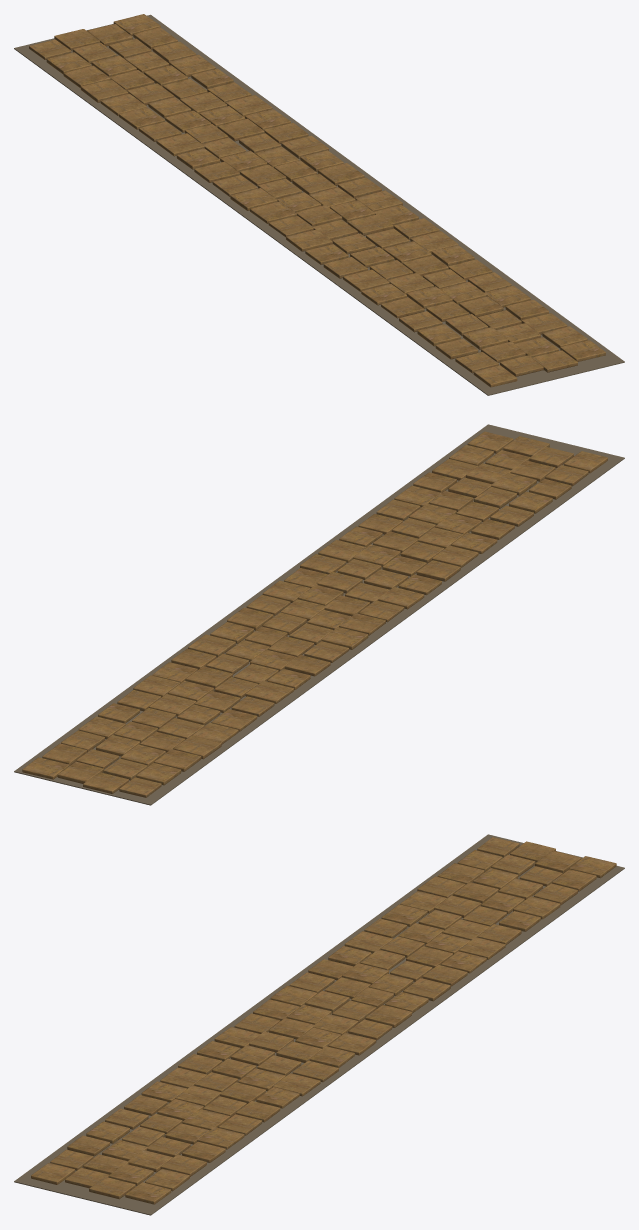
The model's file is stone_approach.glb.
The picture shows the model from 3 angles, top to bottom: view 1: azimuth 30°, elevation 25°; view 2: azimuth 150°, elevation 25°; view 3: azimuth 330°, elevation 25°; orthographic projection.
Parts seen in each view (by area): view 1: LimestoneSurface, PackedEarthSurface; view 2: LimestoneSurface, PackedEarthSurface; view 3: LimestoneSurface, PackedEarthSurface.
Boxes of the visible parts, bbox=[...] form: LimestoneSurface: bbox=[29, 14, 605, 387]; PackedEarthSurface: bbox=[14, 14, 624, 395]; LimestoneSurface: bbox=[22, 431, 607, 797]; PackedEarthSurface: bbox=[14, 424, 624, 805]; LimestoneSurface: bbox=[31, 837, 616, 1204]; PackedEarthSurface: bbox=[14, 834, 624, 1215].
Bounding box in the file's own units: 2.5 × 0.0838 × 15.
Materials: 2 (1 with a texture image).
